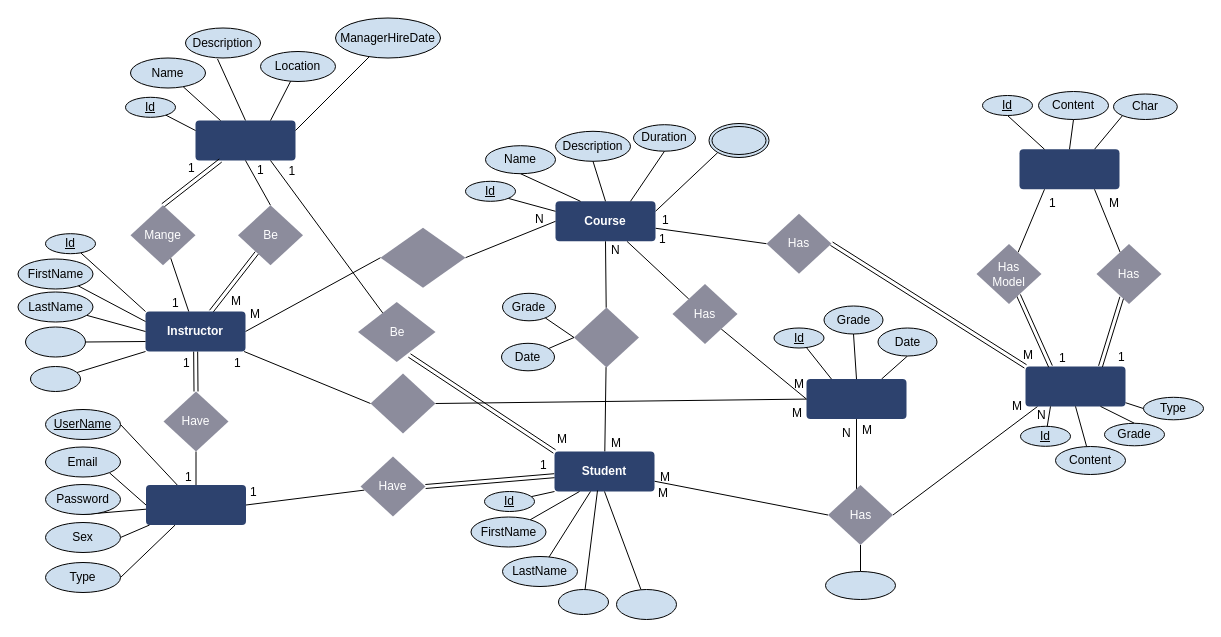
The diagram is 1221 pixels wide and 637 high, and some of its shapes have lost their labels. The box of each missing label's shape, as (x1, y1, x2, y2) in pixels:
Address: (616, 588, 676, 620)
Answer: (824, 570, 896, 600)
BOD: (558, 588, 608, 614)
Choice: (1019, 149, 1119, 189)
Degree: (24, 326, 86, 357)
Department: (195, 120, 295, 160)
Exam: (806, 379, 906, 419)
Generate: (370, 373, 435, 433)
Question: (1025, 366, 1125, 406)
Salary: (30, 366, 80, 392)
Take: (574, 307, 638, 367)
Teach: (380, 227, 465, 287)
Topic: (708, 122, 769, 158)
User: (146, 484, 246, 524)
